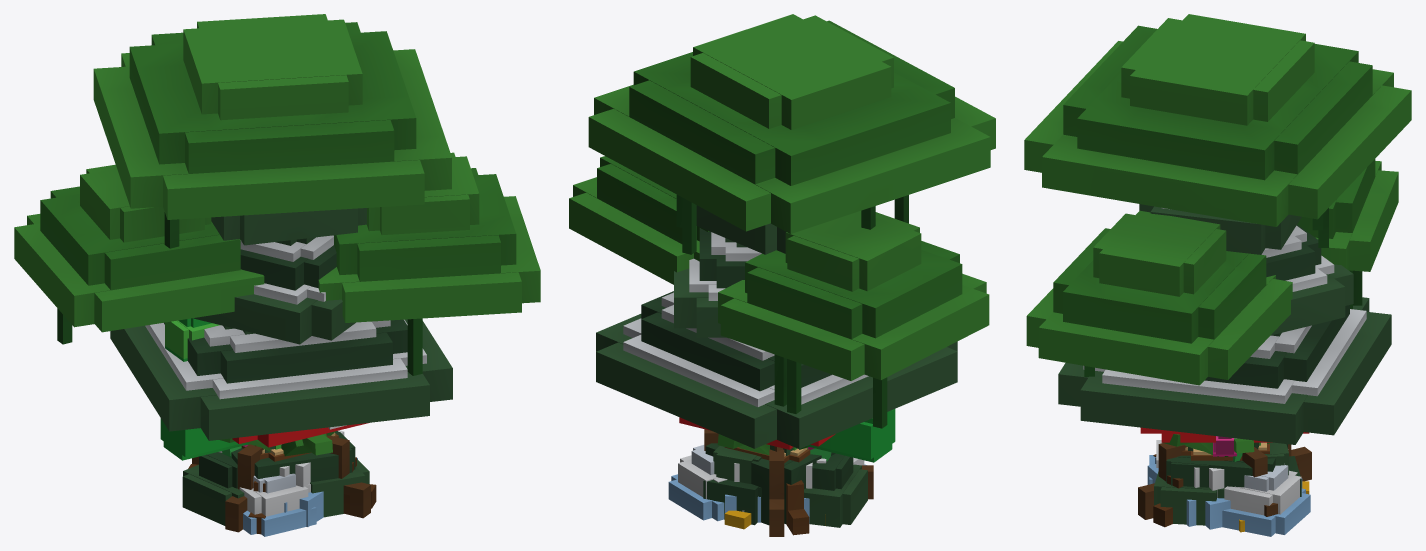
Rendered from ZoneDecor.fbx.
3 views of the same model, side by side, from view 1: azimuth 30°, elevation 25°; view 2: azimuth 150°, elevation 25°; view 3: azimuth 270°, elevation 25° (orthographic). The views are drawn at different scales.
Parts seen in each view (by area): view 1: JungleTree, Pine, SnowPine, Bush, SnowPile, Cactus, LeafPlant, Mushroom, Stump; view 2: JungleTree, Pine, Bush, SnowPine, SnowPile, Cactus, Stump; view 3: JungleTree, Pine, SnowPine, SnowPile, Bush, Stump, LeafPlant, Mushroom.
Boxes of the visible parts, x1=… form: JungleTree: x1=14, y1=14, x2=540, y2=532; Pine: x1=110, y1=208, x2=452, y2=514; SnowPine: x1=145, y1=235, x2=426, y2=399; Bush: x1=182, y1=431, x2=369, y2=525; SnowPile: x1=219, y1=430, x2=357, y2=536; Cactus: x1=160, y1=318, x2=281, y2=460; LeafPlant: x1=219, y1=431, x2=336, y2=456; Mushroom: x1=232, y1=422, x2=369, y2=447; Stump: x1=188, y1=432, x2=376, y2=534; JungleTree: x1=569, y1=14, x2=995, y2=536; Pine: x1=596, y1=205, x2=957, y2=448; Bush: x1=703, y1=443, x2=867, y2=527; SnowPine: x1=623, y1=232, x2=868, y2=406; SnowPile: x1=668, y1=445, x2=866, y2=523; Cactus: x1=793, y1=409, x2=895, y2=462; Stump: x1=724, y1=447, x2=810, y2=535; JungleTree: x1=1024, y1=14, x2=1411, y2=519; Pine: x1=1058, y1=204, x2=1391, y2=469; SnowPine: x1=1083, y1=208, x2=1366, y2=403; SnowPile: x1=1147, y1=440, x2=1310, y2=536; Bush: x1=1154, y1=442, x2=1301, y2=525; Stump: x1=1153, y1=442, x2=1269, y2=527; LeafPlant: x1=1163, y1=434, x2=1270, y2=456; Mushroom: x1=1140, y1=427, x2=1309, y2=442.
Bounding box in the file's own units: 16.19 × 16.17 × 12.87.
